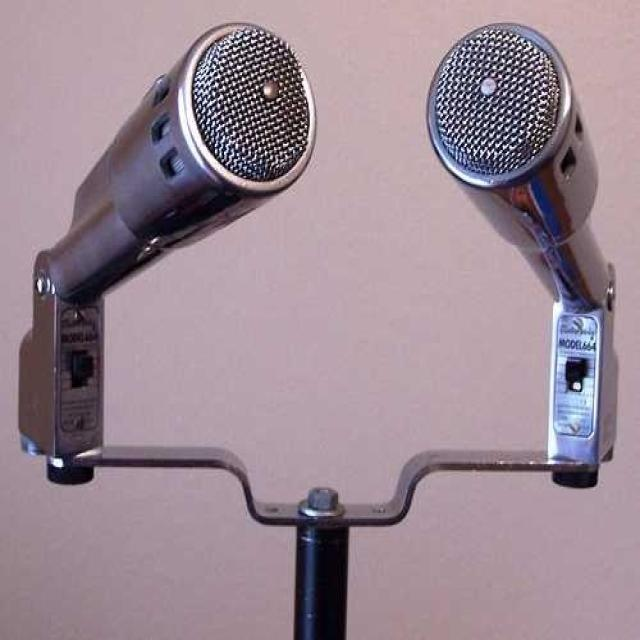microphone: (424, 20, 619, 477), (46, 21, 311, 302)
